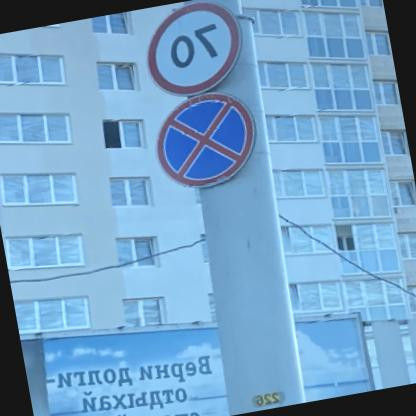speedlimit: (140, 0, 252, 101)
